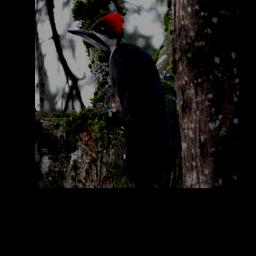Woodpecker: (65, 10, 178, 183)
